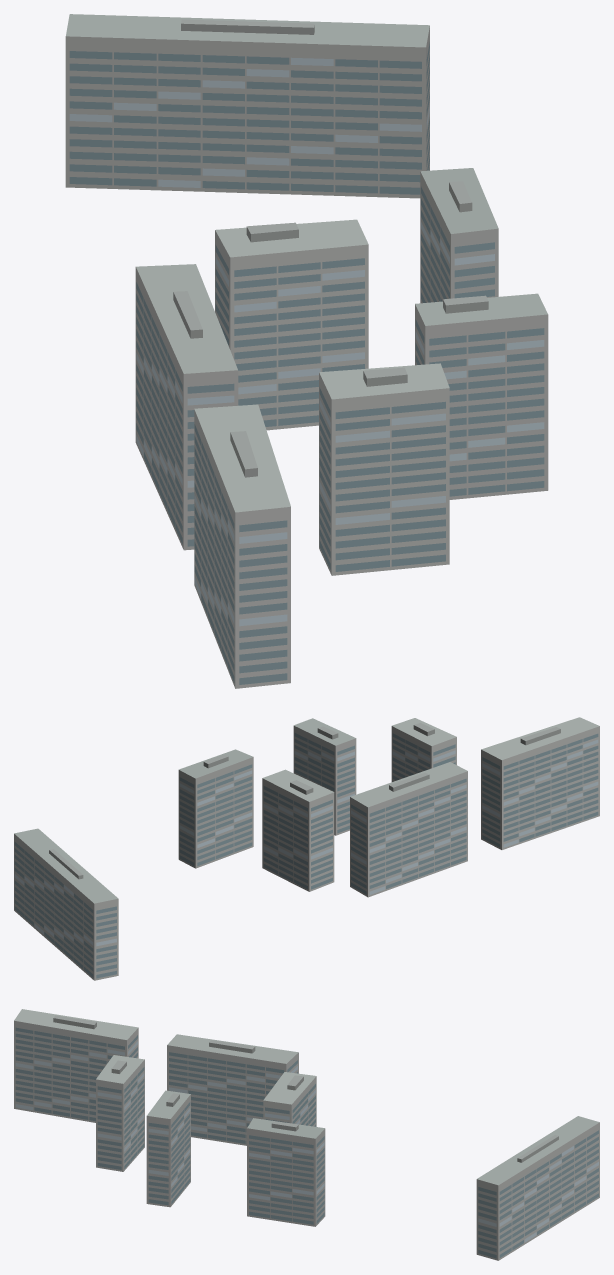
Rendered from apt-a13811202.glb.
The picture shows the model from 3 angles, top to bottom: view 1: azimuth 30°, elevation 25°; view 2: azimuth 150°, elevation 25°; view 3: azimuth 270°, elevation 25°; orthographic projection. The views are drawn at different scales.
Parts seen in each view (by area): view 1: apt-a13811202; view 2: apt-a13811202; view 3: apt-a13811202.
Boxes of the visible parts, left/top/right/bottom form: apt-a13811202: left=65, top=14, right=548, bottom=688; apt-a13811202: left=14, top=717, right=599, bottom=980; apt-a13811202: left=14, top=1009, right=599, bottom=1260.
Bounding box in the file's own units: 160 × 42 × 242.
